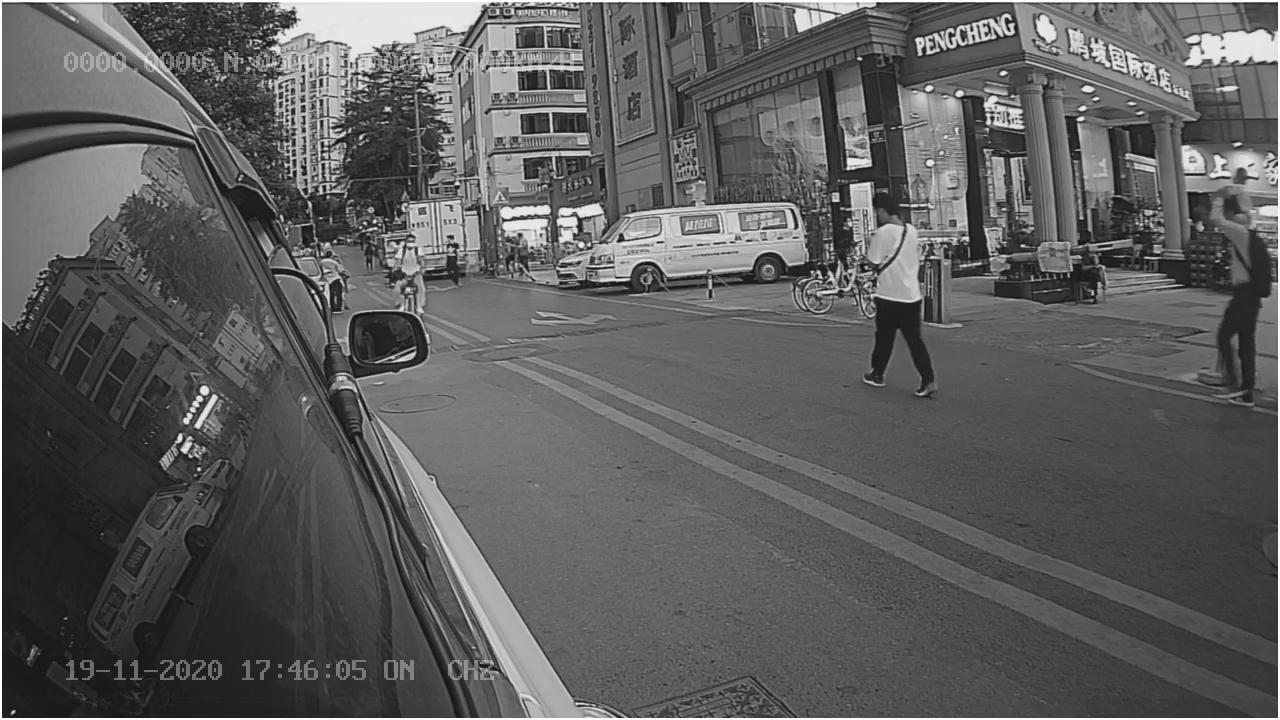person: (851, 190, 945, 410)
